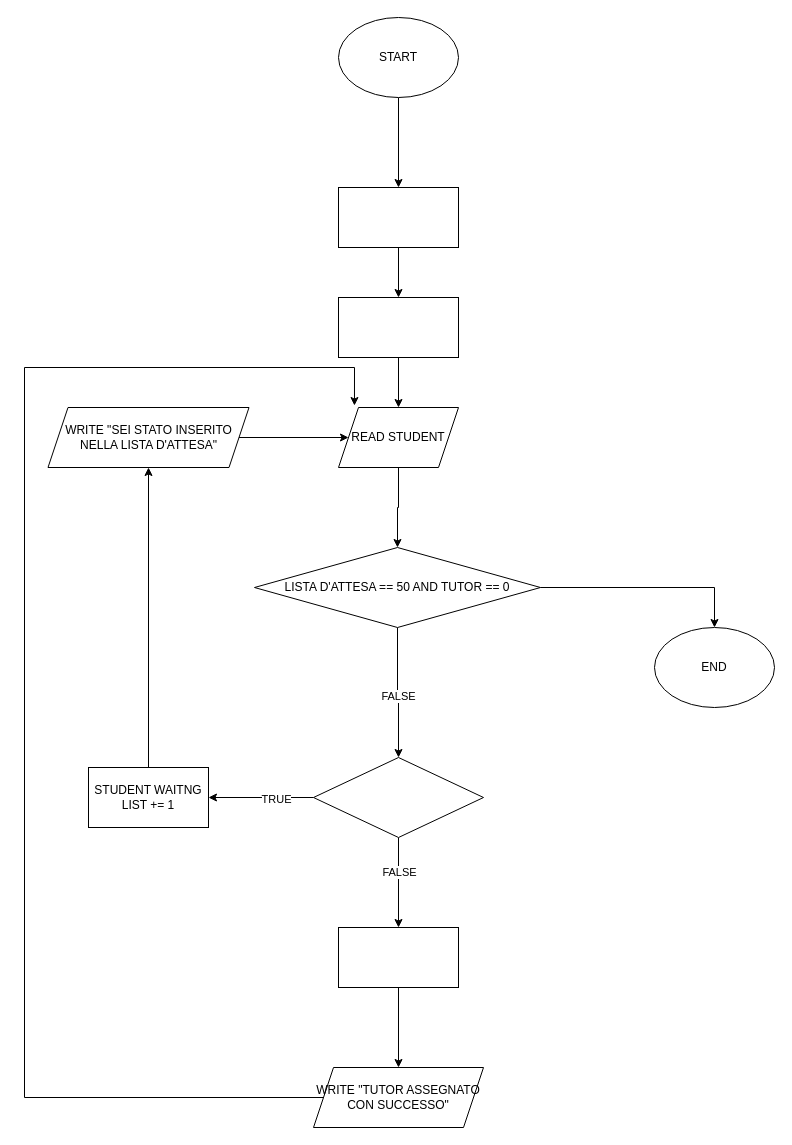
This 792x1145 diagram has some shape labels left out. The shapes that lost their labels are listed below. From the top down, each one's centre as x and y in pixels, then its label:
At (x=398, y=217): "TUTOR = 10".
At (x=398, y=327): "STUDENT WAITING LIST = 0".
At (x=398, y=797): "TUTOR == 0".
At (x=398, y=957): "TUTOR = TUTOR + STUDENT".
